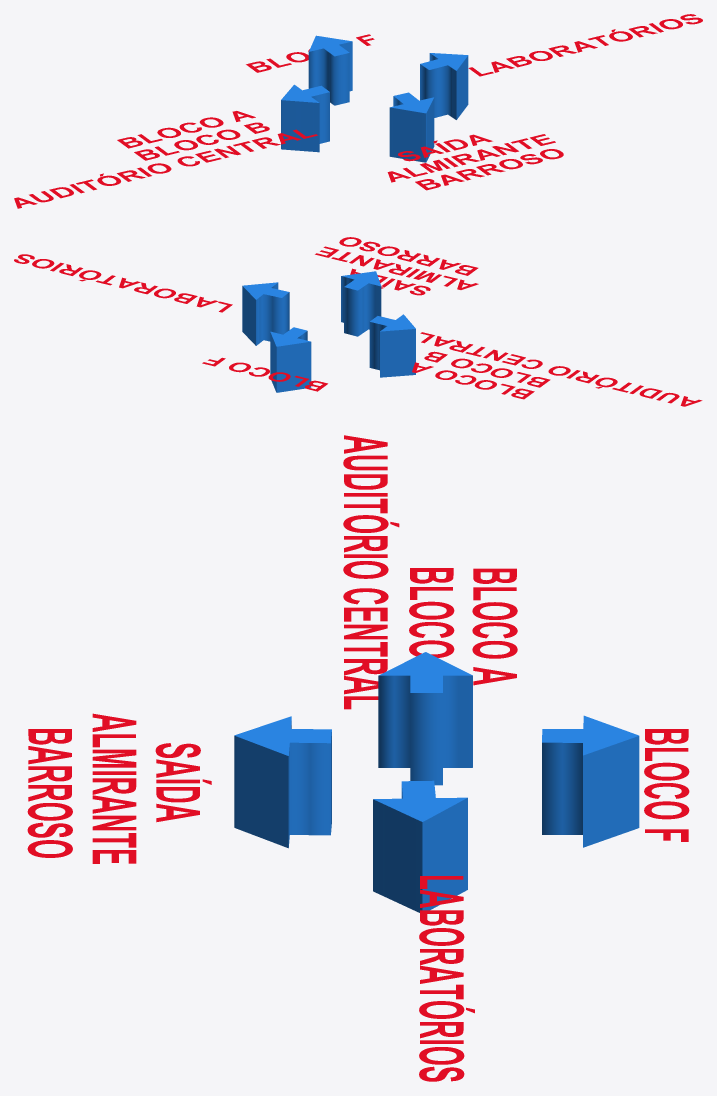
Rendered from Seta bloco C - 0.glb.
3 renders of one model, top to bottom at view 1: azimuth 30°, elevation 25°; view 2: azimuth 150°, elevation 25°; view 3: azimuth 270°, elevation 25°, orthographic. The views are drawn at different scales.
Parts seen in each view (by area): view 1: Curve.002, Curve.003, Curve.001, Curve.004, Text.006, Text.003, Text, Text.002, Text.005, Text.001, Text.004, Text.007; view 2: Curve.002, Curve.003, Curve.004, Curve.001, Text.006, Text.003, Text, Text.002, Text.005, Text.001, Text.007, Text.004; view 3: Curve.001, Curve.004, Curve.002, Curve.003, Text.006, Text.003, Text, Text.002, Text.001, Text.007, Text.005, Text.004.
Part boxes in pixels (x1,y1,x2,y2): Curve.002: [281, 84, 329, 152]; Curve.003: [420, 53, 468, 119]; Curve.001: [389, 92, 434, 162]; Curve.004: [308, 35, 352, 105]; Text.006: [14, 129, 317, 208]; Text.003: [468, 14, 702, 76]; Text: [387, 134, 555, 182]; Text.002: [415, 149, 563, 190]; Text.005: [134, 122, 269, 160]; Text.001: [117, 111, 255, 148]; Text.004: [398, 134, 492, 161]; Text.007: [246, 34, 374, 72]; Curve.002: [369, 314, 415, 377]; Curve.003: [242, 282, 289, 345]; Curve.004: [270, 327, 311, 392]; Curve.001: [341, 271, 381, 336]; Text.006: [420, 332, 702, 406]; Text.003: [14, 254, 232, 312]; Text: [315, 246, 478, 289]; Text.002: [339, 237, 478, 275]; Text.005: [424, 351, 550, 387]; Text.001: [412, 362, 534, 399]; Text.007: [202, 357, 327, 391]; Text.004: [350, 268, 430, 295]; Curve.001: [234, 716, 331, 848]; Curve.004: [542, 715, 639, 847]; Curve.002: [378, 652, 472, 785]; Curve.003: [373, 780, 467, 912]; Text.006: [343, 435, 399, 709]; Text.003: [419, 876, 474, 1081]; Text: [92, 713, 136, 863]; Text.002: [27, 729, 72, 857]; Text.001: [472, 568, 517, 685]; Text.007: [644, 729, 689, 841]; Text.005: [409, 568, 454, 657]; Text.004: [155, 743, 211, 822].
Bounding box in the file's own units: 5.25 × 0.3577 × 2.27.
